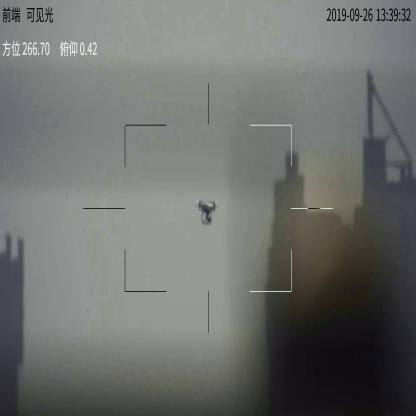uav: (195, 199, 221, 227)
